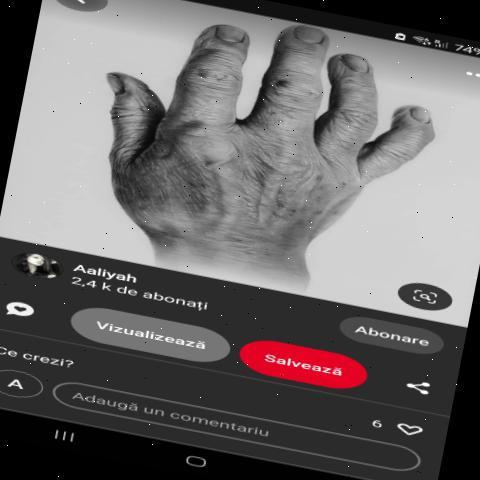Hands: (78, 0, 456, 309)
